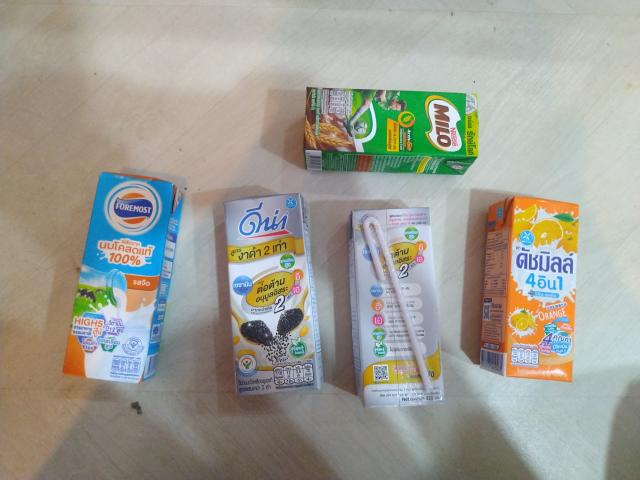drink_box: (56, 156, 191, 395), (472, 192, 594, 397), (216, 185, 327, 407), (346, 198, 451, 422), (296, 75, 495, 185)
